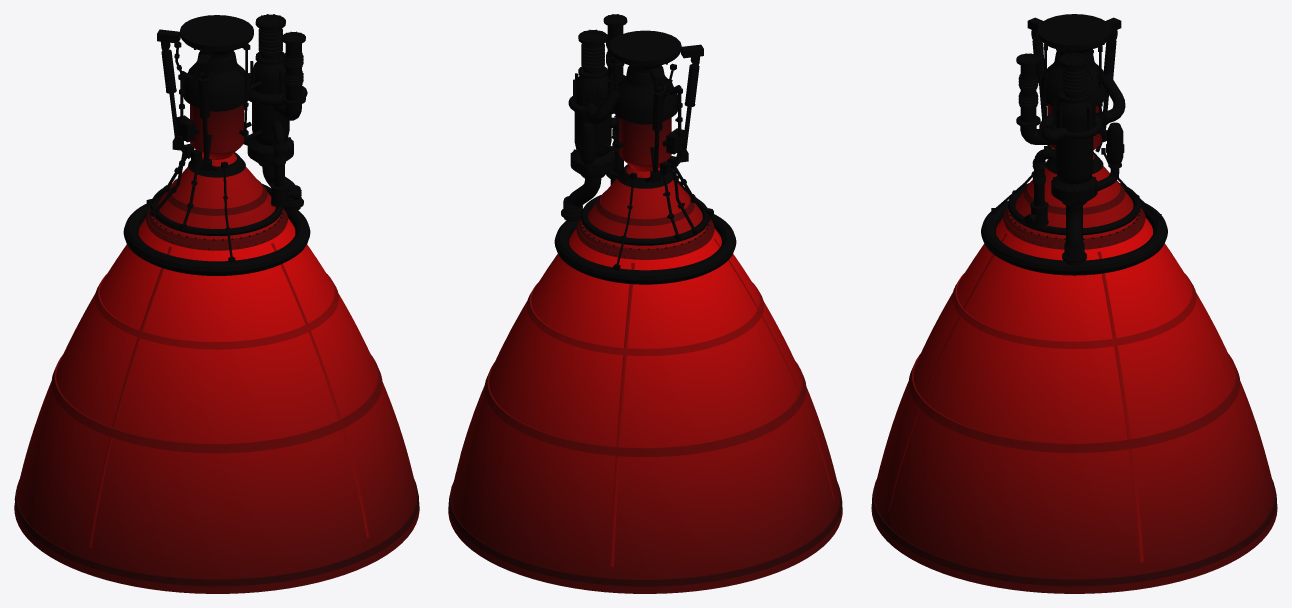
File: eng_kerolox_vacuum.fbx
3 views of the same model, side by side, from view 1: azimuth 30°, elevation 25°; view 2: azimuth 150°, elevation 25°; view 3: azimuth 270°, elevation 25° (orthographic). The views are drawn at different scales.
Visible parts, largest first — view 1: eng_kerolox_vacuum_LOD0; view 2: eng_kerolox_vacuum_LOD0; view 3: eng_kerolox_vacuum_LOD0.
Part boxes in pixels (x1,y1,x2,y2): eng_kerolox_vacuum_LOD0: [14, 14, 419, 593]; eng_kerolox_vacuum_LOD0: [448, 14, 842, 593]; eng_kerolox_vacuum_LOD0: [871, 14, 1277, 593].
Size of what is drawn, in the model's own units: 3 by 3.9 by 3.
